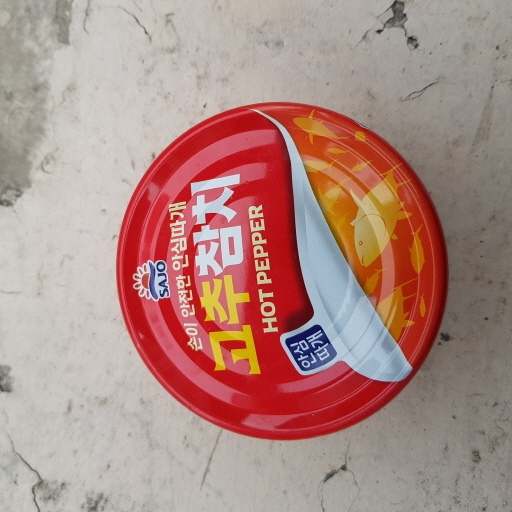Metal_1: (111, 101, 449, 437)
